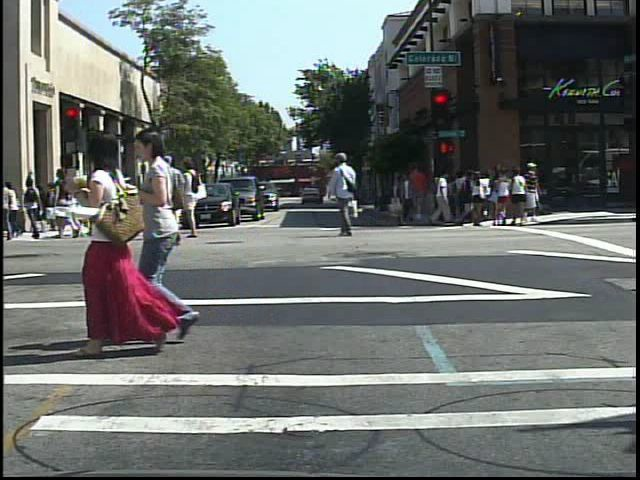person: (62, 127, 177, 361), (132, 126, 218, 340), (330, 149, 366, 242), (153, 154, 188, 242), (516, 161, 556, 229), (53, 166, 80, 243), (87, 168, 115, 242), (21, 175, 45, 244), (186, 155, 205, 239), (469, 171, 491, 232), (7, 172, 8, 246)
